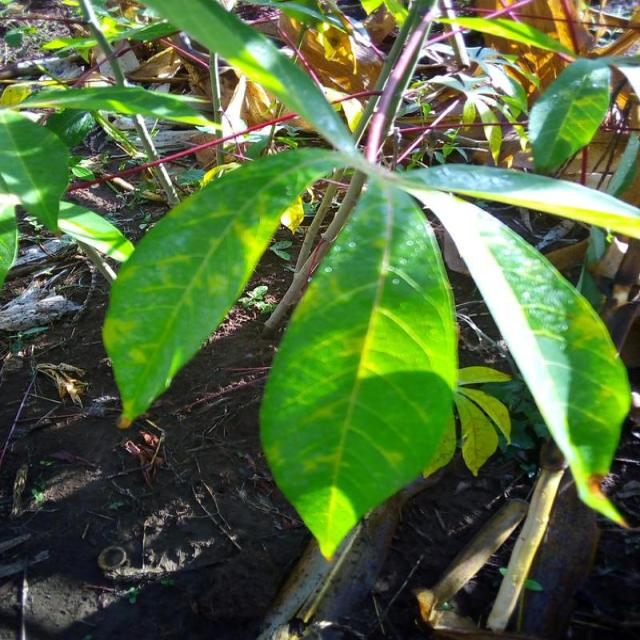cassava leaf: (394, 173, 633, 530), (258, 169, 459, 561), (100, 145, 342, 429)
